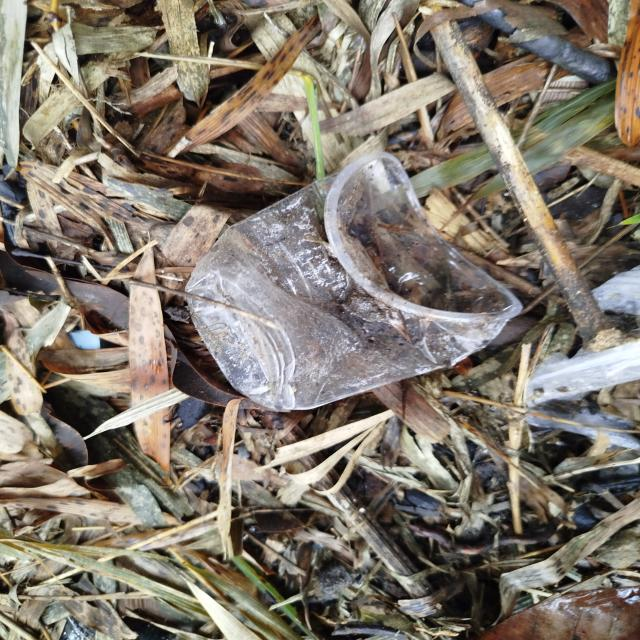plastic: (190, 143, 543, 416)
